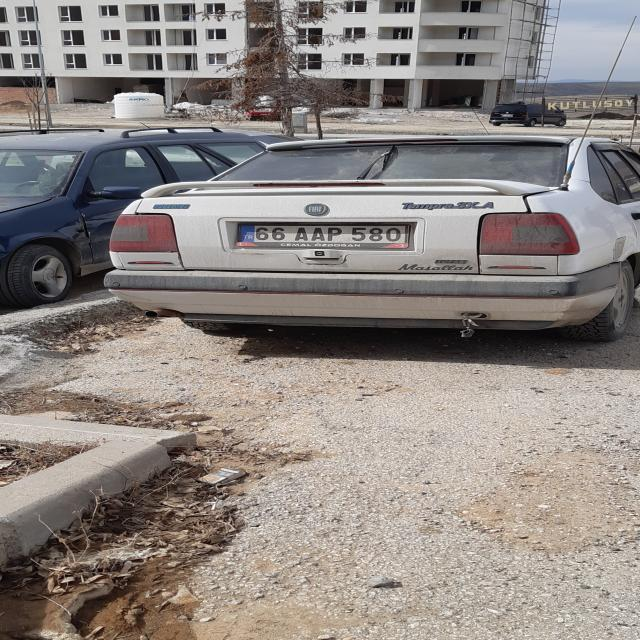plate: (240, 225, 407, 242)
